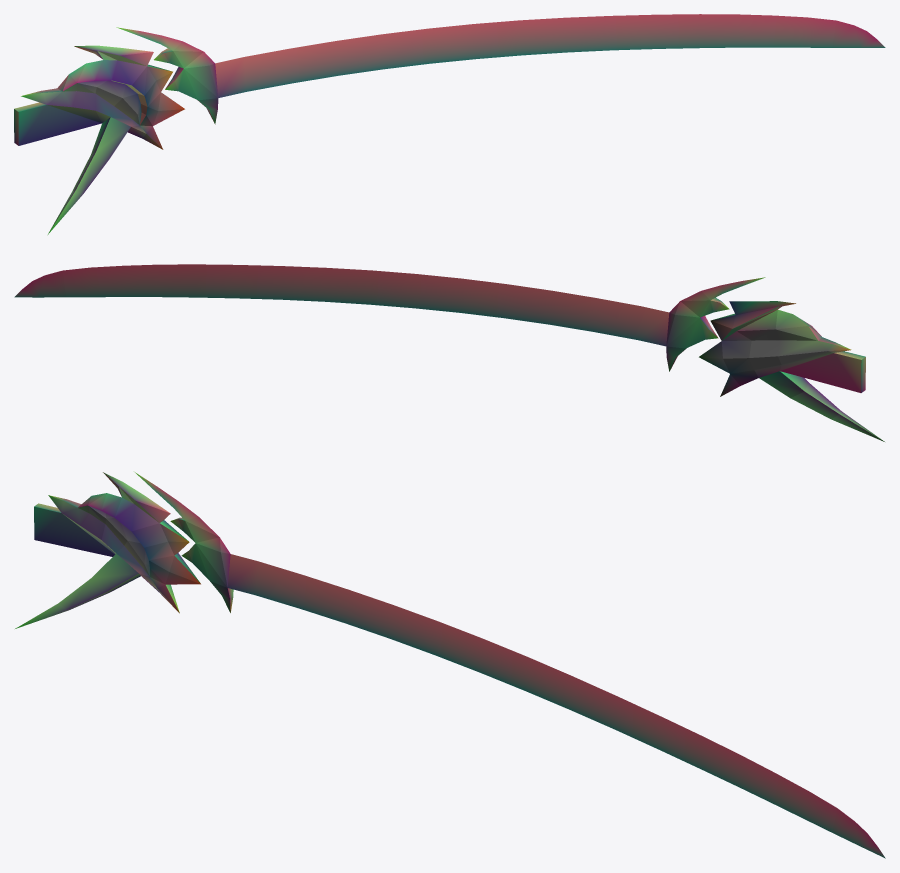
The model's file is Eff_Unagi_Weapon02.fbx.
The picture shows the model from 3 angles, top to bottom: view 1: azimuth 30°, elevation 25°; view 2: azimuth 150°, elevation 25°; view 3: azimuth 330°, elevation 25°; orthographic projection. The views are drawn at different scales.
Visible parts, largest first — view 1: Eff_Unagi_Weapon02; view 2: Eff_Unagi_Weapon02; view 3: Eff_Unagi_Weapon02.
Part boxes in pixels (x1,y1,x2,y2): Eff_Unagi_Weapon02: (14,14,885,234); Eff_Unagi_Weapon02: (14,264,884,441); Eff_Unagi_Weapon02: (15,472,885,858).
Size of the model in its own units: 0.9592 by 0.2199 by 0.0647.
